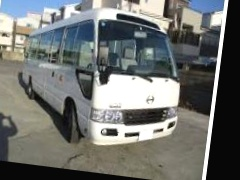bus: (12, 0, 188, 155)
